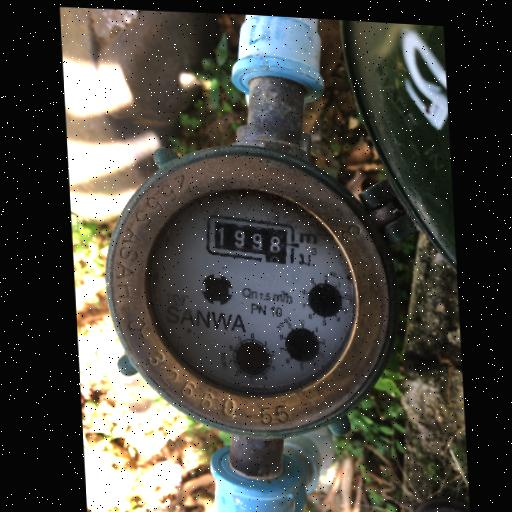1: (213, 220, 233, 250)
8: (263, 228, 289, 266)
9: (245, 225, 269, 255), (228, 222, 250, 252)
border_water_meter_number: (203, 211, 297, 266)
